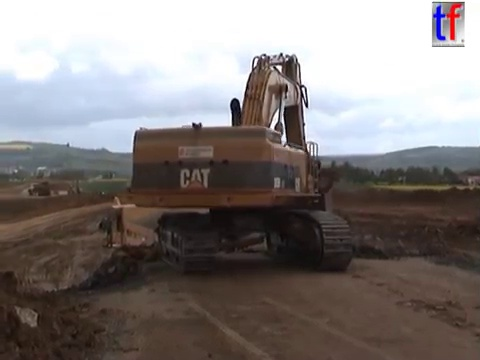excavator: (126, 49, 358, 274), (65, 178, 84, 197)
truck: (96, 193, 268, 274), (23, 179, 56, 198)
